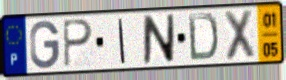D: (186, 12, 220, 63)
G: (28, 19, 61, 71)
I: (117, 17, 127, 66)
N: (141, 13, 176, 66)
P: (61, 18, 95, 70)
X: (222, 8, 257, 63)
